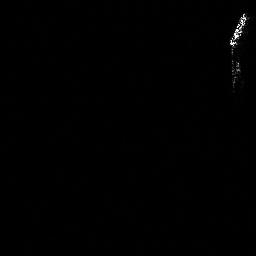ship: (229, 11, 247, 90)
